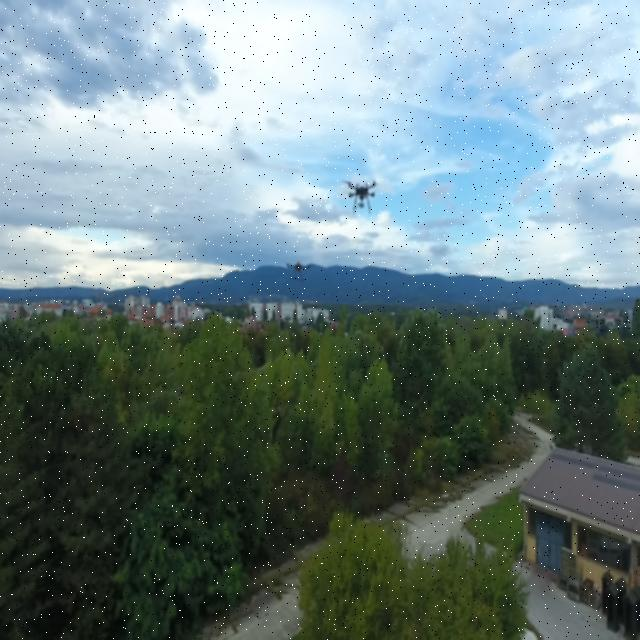UAV: (338, 175, 383, 217), (274, 255, 323, 278)
